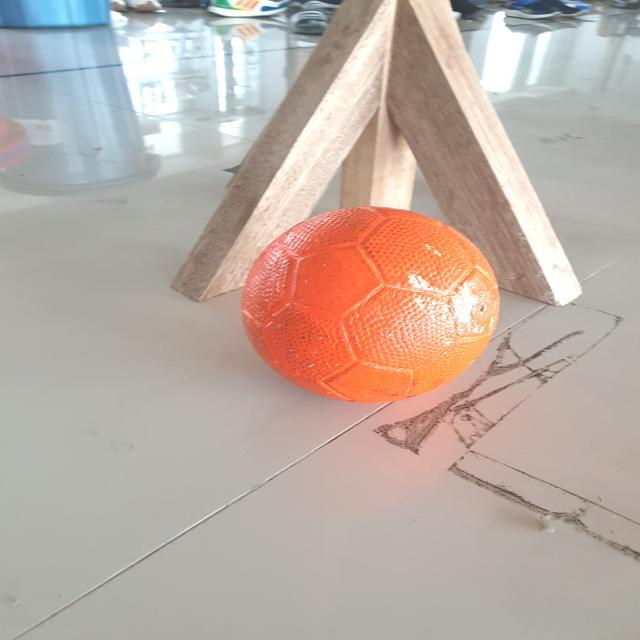bola: (216, 196, 527, 413)
